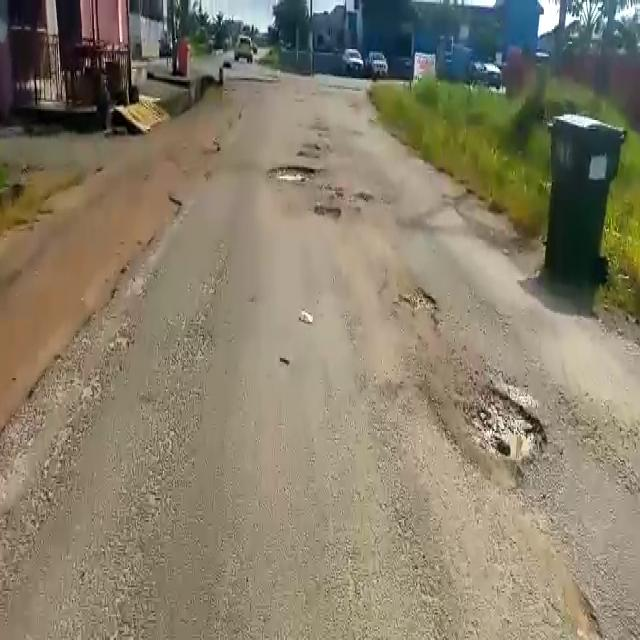Pothole: (464, 382, 549, 467), (389, 282, 440, 319), (266, 162, 317, 181), (314, 202, 348, 221)
